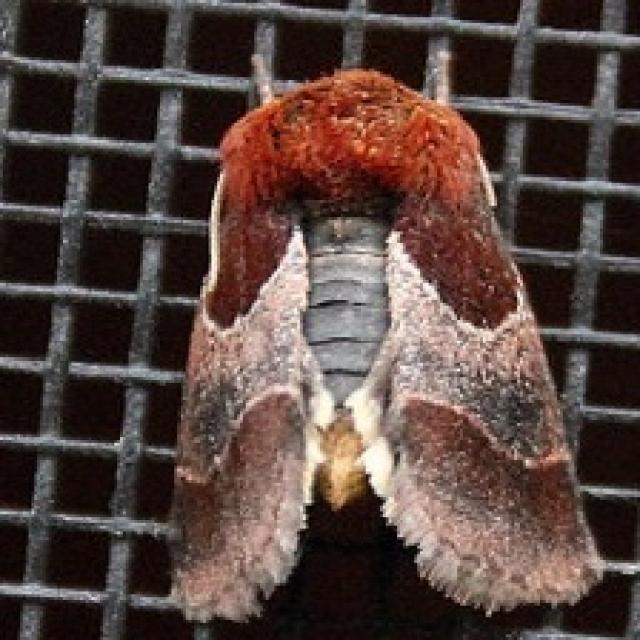butterfly: (160, 63, 606, 623)
